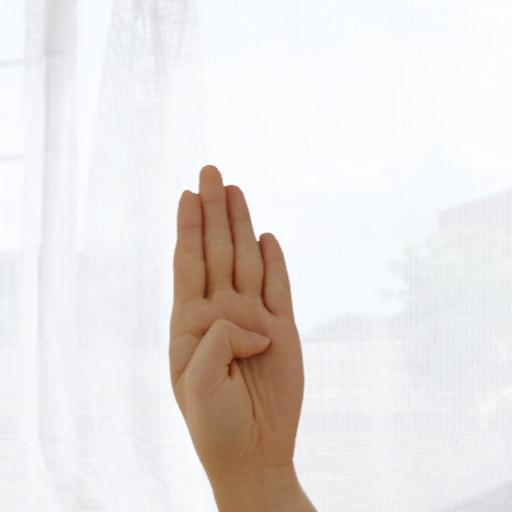B: (158, 157, 322, 493)
